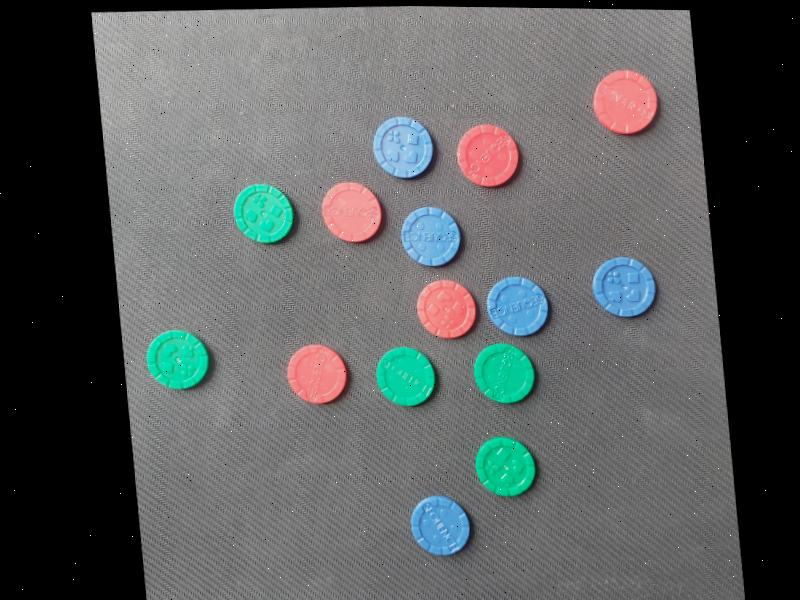Blue_Token: (473, 251, 566, 345), (577, 243, 665, 324), (399, 485, 481, 570), (359, 105, 438, 188), (390, 196, 475, 272)
Green_Token: (465, 424, 542, 511), (460, 333, 541, 411), (133, 317, 217, 391), (367, 340, 446, 414), (222, 170, 298, 245)
Red_Token: (567, 59, 667, 152), (442, 106, 536, 189), (278, 334, 355, 415), (316, 170, 393, 247), (411, 275, 479, 346)
